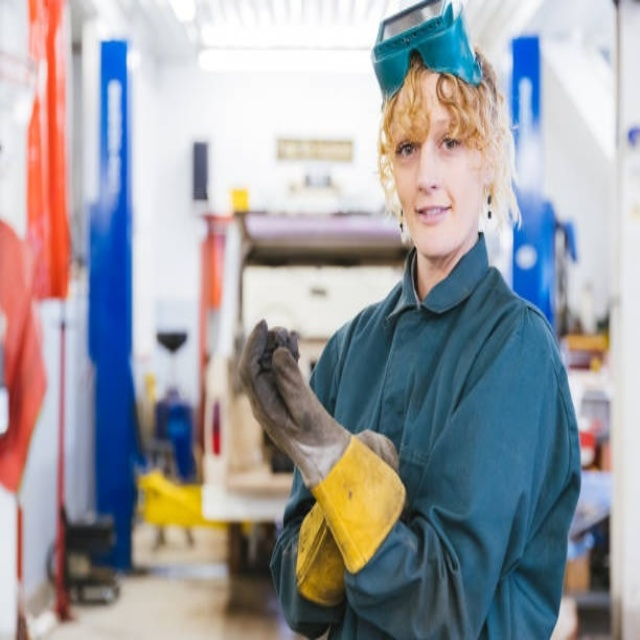Guantes: (236, 317, 411, 601)
Sin_gafas: (391, 116, 467, 166)
Sin_mascara: (408, 195, 455, 243)
